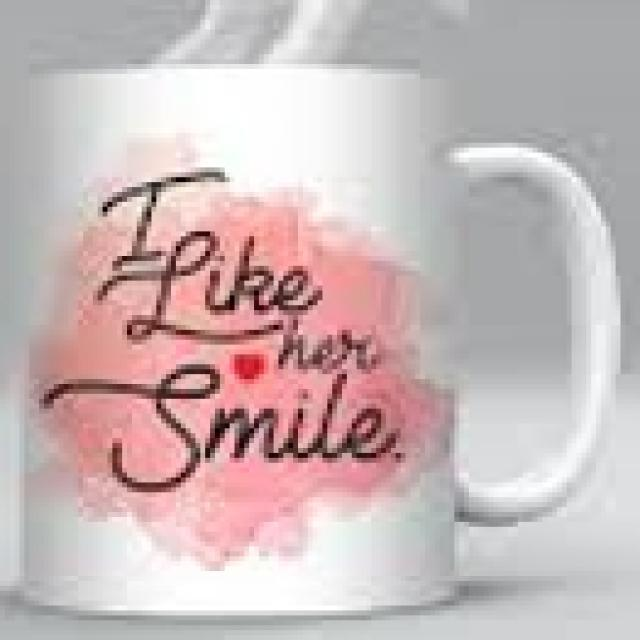taza: (15, 63, 619, 618)
